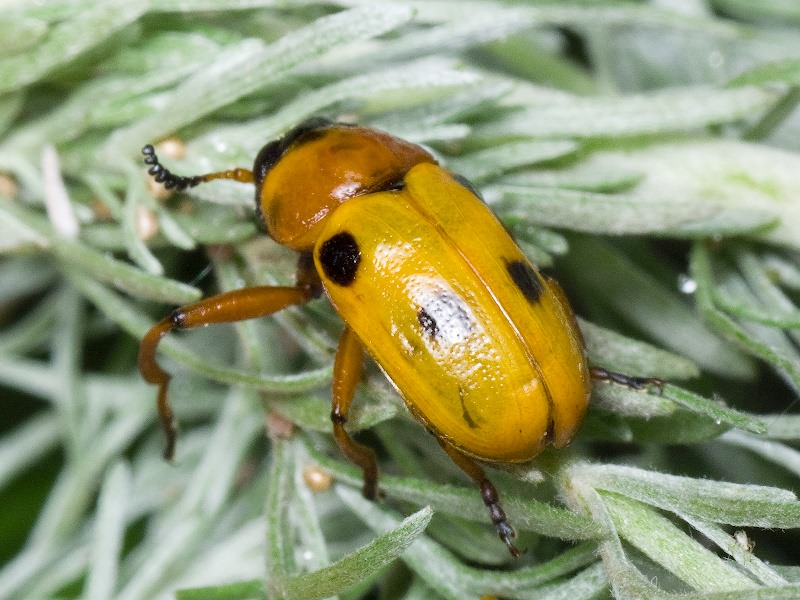Tituboea_macropus: (113, 109, 677, 583)
